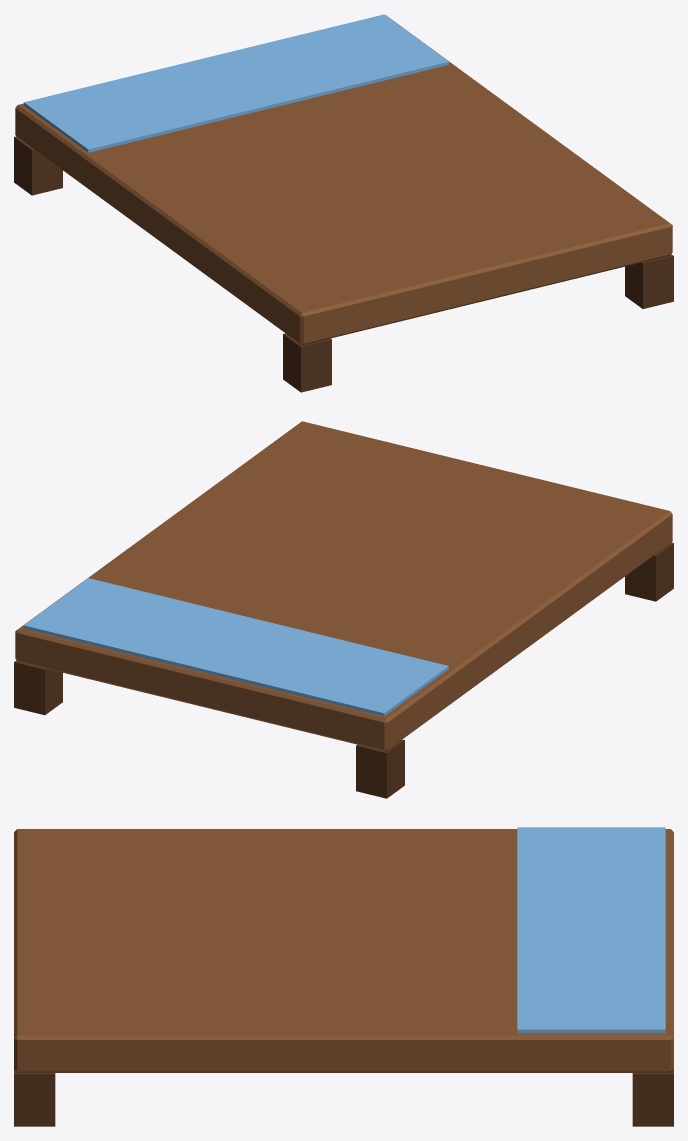
The model's file is PRP_BedFrame.fbx.
3 renders of one model, top to bottom at view 1: azimuth 30°, elevation 25°; view 2: azimuth 150°, elevation 25°; view 3: azimuth 270°, elevation 25°, orthographic. The views are drawn at different scales.
Visible parts, largest first — view 1: PRP_BedFrame; view 2: PRP_BedFrame; view 3: PRP_BedFrame.
Boxes of the visible parts, left/top/right/bottom form: PRP_BedFrame: left=14, top=14, right=673, bottom=392; PRP_BedFrame: left=14, top=421, right=673, bottom=798; PRP_BedFrame: left=14, top=827, right=673, bottom=1126.
Size of the model in its own units: 6 by 1.25 by 8.
